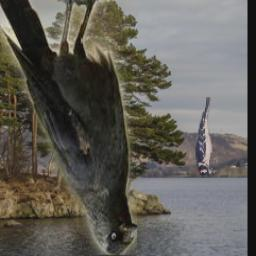Crow: (0, 0, 138, 256)
Woodpecker: (193, 97, 217, 178)
